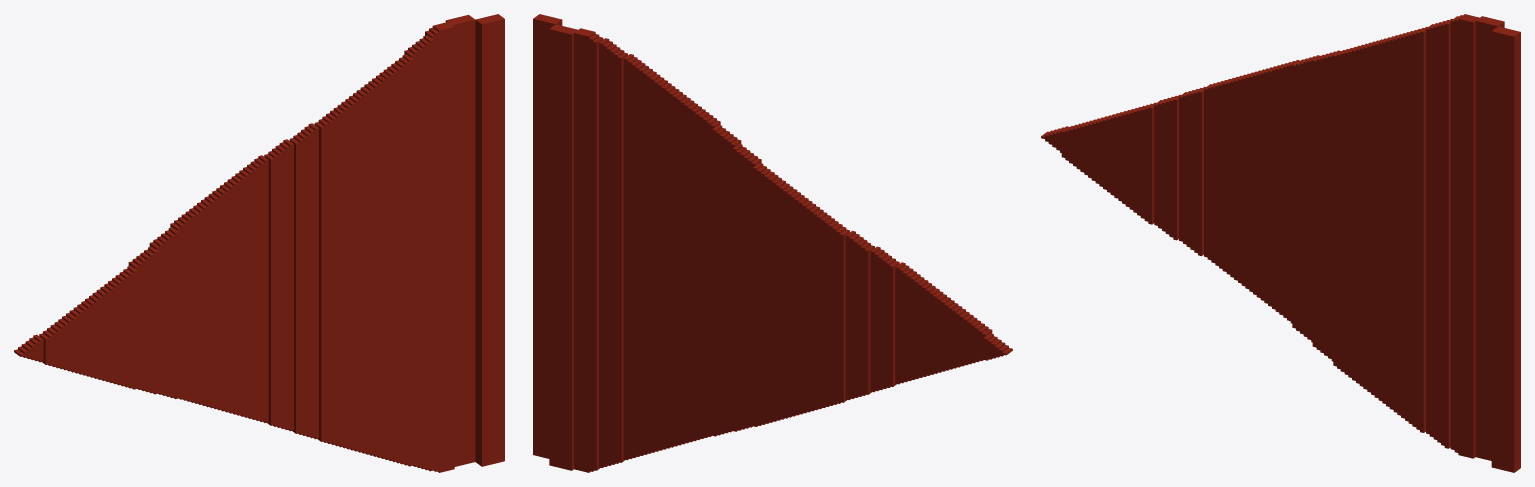
Rendered from flag_full7-0.obj.
3 renders of one model, left to right at view 1: azimuth 30°, elevation 25°; view 2: azimuth 150°, elevation 25°; view 3: azimuth 330°, elevation 25°, orthographic.
Size of the model in its own units: 25.2 by 22.1 by 1.2.
1 material, 1 textured.
